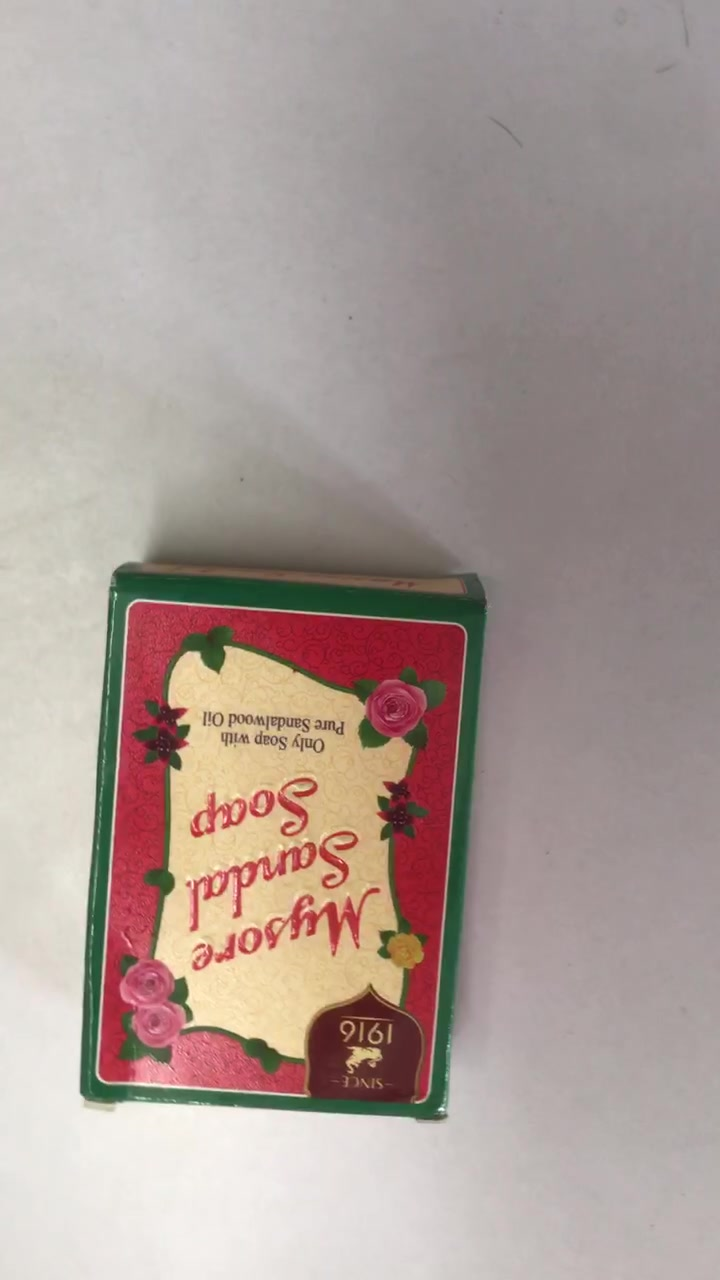mysore sandal soap: (78, 567, 491, 1117)
